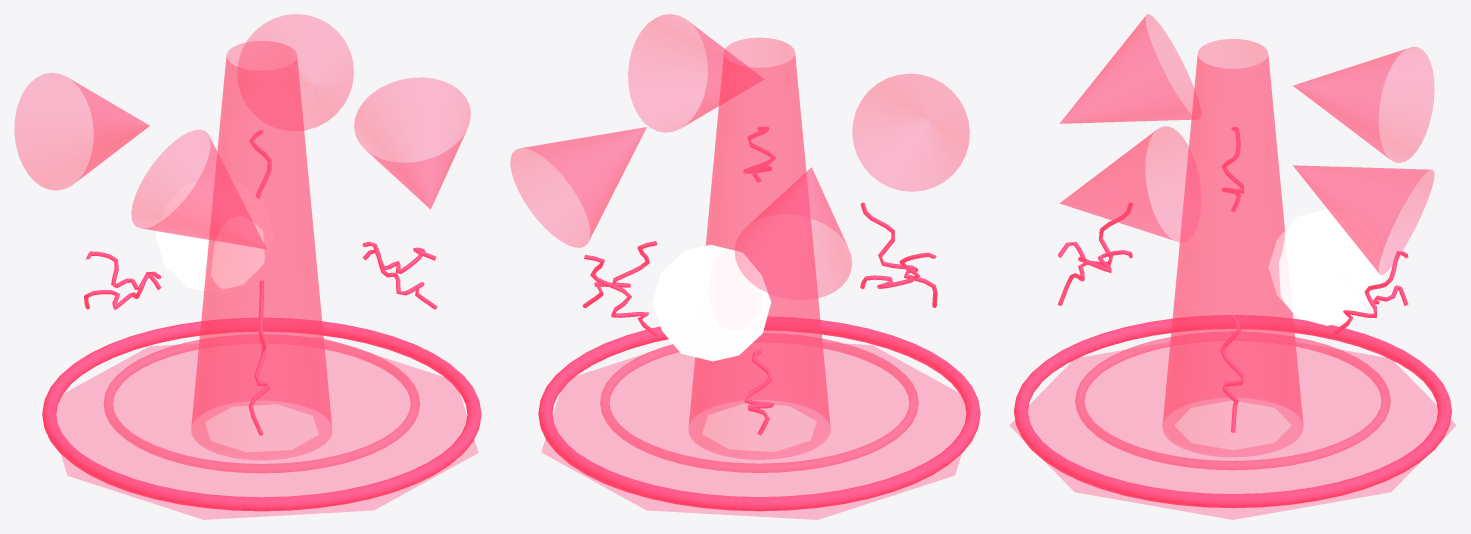
File: vfx_core_breach.glb
3 renders of one model, left to right at view 1: azimuth 30°, elevation 25°; view 2: azimuth 150°, elevation 25°; view 3: azimuth 270°, elevation 25°, orthographic.
Visible parts, largest first — view 1: breach_column, breach_ground, breach_wave, breach_siren0, breach_siren2, breach_siren1, breach_flash, breach_siren3, breach_wave_b, breach_arc2, breach_arc3, breach_arc1 (+2 smaller); view 2: breach_column, breach_ground, breach_wave, breach_siren1, breach_flash, breach_siren2, breach_siren0, breach_siren3, breach_wave_b, breach_arc5, breach_arc2, breach_arc4 (+3 smaller); view 3: breach_column, breach_ground, breach_wave, breach_flash, breach_siren2, breach_siren0, breach_siren3, breach_siren1, breach_wave_b, breach_arc0, breach_arc5, breach_arc2 (+2 smaller).
Part boxes in pixels (x1,y1,x2,y2): breach_column: (191,41,331,459); breach_ground: (56,338,478,519); breach_wave: (42,318,481,511); breach_siren0: (354,77,470,209); breach_siren2: (14,73,149,190); breach_siren1: (131,130,266,249); breach_flash: (155,178,273,292); breach_siren3: (238,14,353,130); breach_wave_b: (103,334,419,473); breach_arc2: (248,280,269,435); breach_arc3: (86,251,161,289); breach_arc1: (363,247,436,273); breach_column: (688,38,830,459); breach_ground: (541,344,965,519); breach_wave: (538,316,980,511); breach_siren1: (852,74,969,191); breach_flash: (652,244,771,361); breach_siren2: (735,167,851,299); breach_siren0: (628,14,763,132); breach_siren3: (510,127,646,247); breach_wave_b: (600,333,918,472); breach_arc5: (584,255,658,336); breach_arc2: (860,202,937,307); breach_arc4: (744,349,773,435); breach_column: (1162,39,1303,456); breach_ground: (1009,346,1456,519); breach_wave: (1014,315,1451,508); breach_flash: (1268,209,1385,325); breach_siren2: (1293,47,1434,162); breach_siren0: (1059,126,1200,241); breach_siren3: (1293,165,1434,274); breach_siren1: (1059,14,1196,123); breach_wave_b: (1075,331,1390,470); breach_arc0: (1220,315,1244,432); breach_arc5: (1333,251,1408,334); breach_arc2: (1057,202,1132,305).
Size of the model in its own units: 7.6 by 7 by 7.6.
